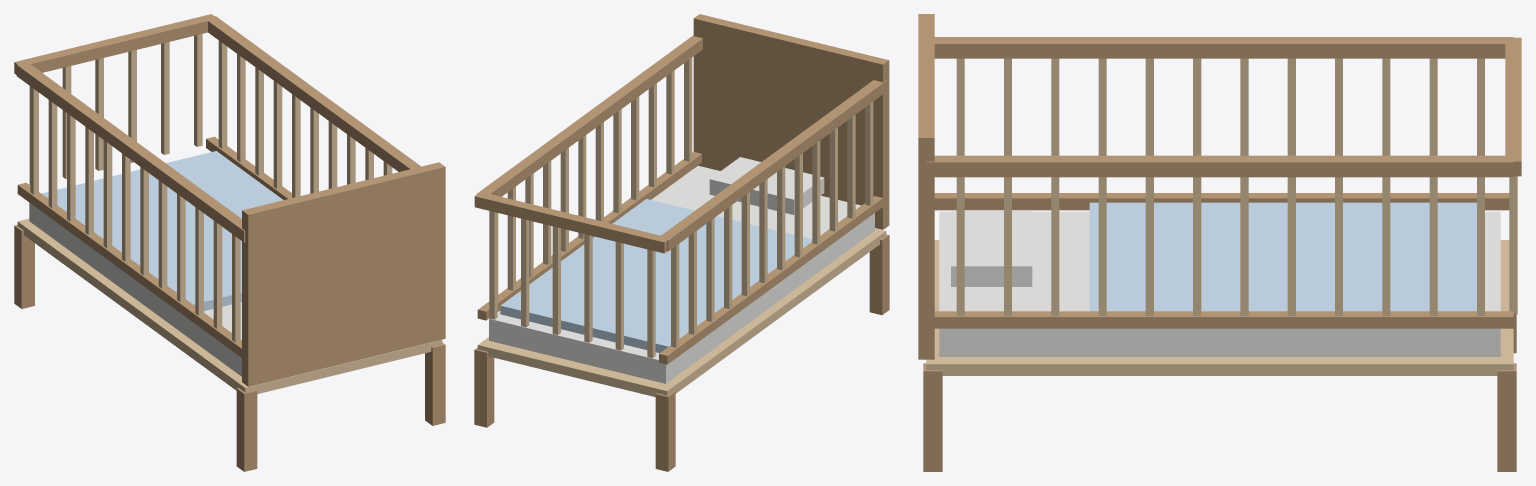
Rendered from crib.glb.
3 views of the same model, side by side, from view 1: azimuth 30°, elevation 25°; view 2: azimuth 150°, elevation 25°; view 3: azimuth 270°, elevation 25° (orthographic). The views are drawn at different scales.
Visible parts, largest first — view 1: crib; view 2: crib; view 3: crib.
Boxes of the visible parts, <box> form: crib: <box>14,14,445,471</box>; crib: <box>474,14,889,471</box>; crib: <box>918,14,1521,471</box>.
Size of the model in its own units: 0.92 by 1.12 by 1.85.
